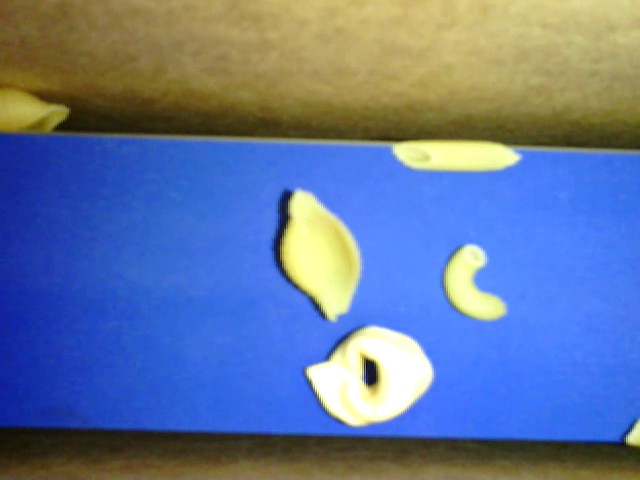elbow: (441, 238, 509, 325)
penne: (392, 138, 524, 176)
shell: (275, 187, 362, 322), (2, 80, 74, 133)
tortellini: (300, 325, 441, 426)
